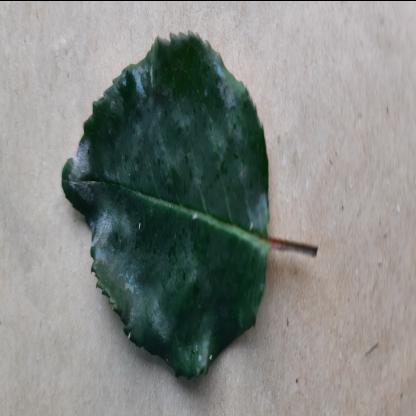powdery-mildew: (58, 32, 273, 393)
